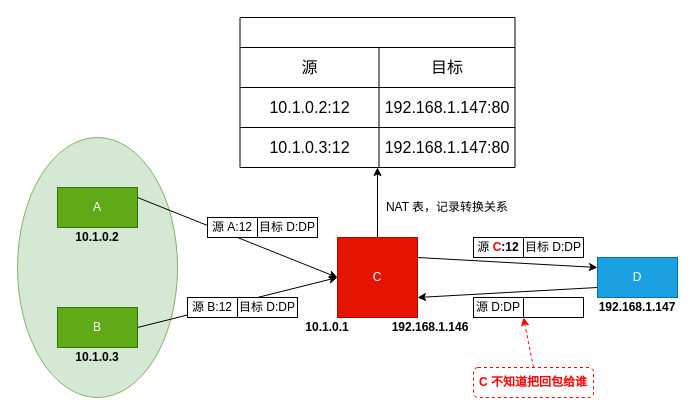
This 695x415 diagram has some shape labels left out. Each missing label, with the box of its shape:
NAT Table: (239, 16, 515, 168)
目标 C :12: (522, 296, 584, 318)
